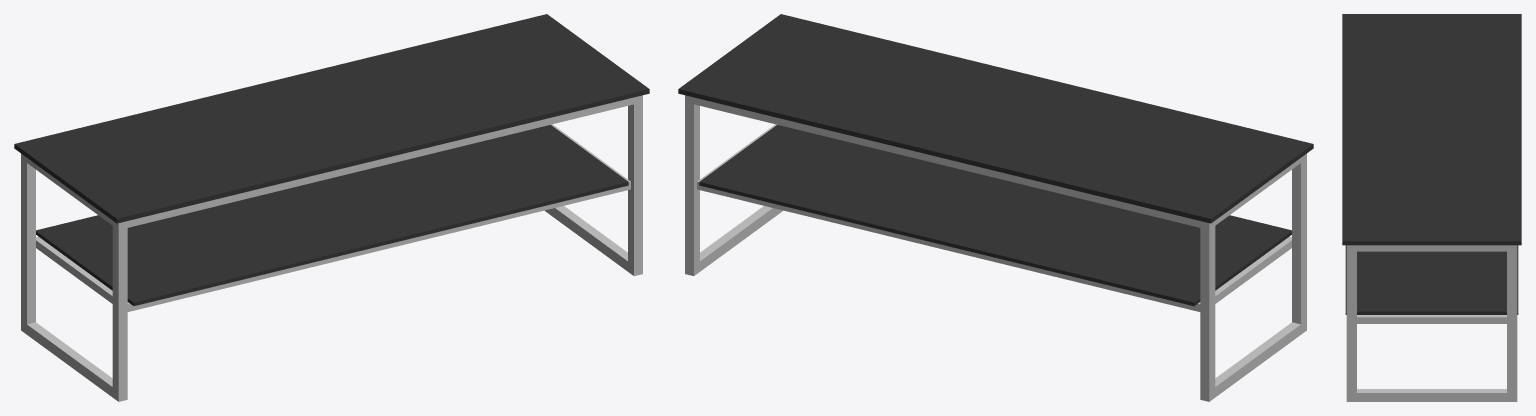
The model's file is Int_KitchenTable02.fbx.
3 views of the same model, side by side, from view 1: azimuth 30°, elevation 25°; view 2: azimuth 150°, elevation 25°; view 3: azimuth 270°, elevation 25° (orthographic). The views are drawn at different scales.
Visible parts, largest first — view 1: Int_KitchenTable02; view 2: Int_KitchenTable02; view 3: Int_KitchenTable02.
Boxes of the visible parts, bbox=[...] form: Int_KitchenTable02: bbox=[14, 14, 649, 401]; Int_KitchenTable02: bbox=[678, 14, 1313, 401]; Int_KitchenTable02: bbox=[1342, 14, 1521, 401].
Size of what is drawn, in the model's own units: 300 by 100 by 100.
